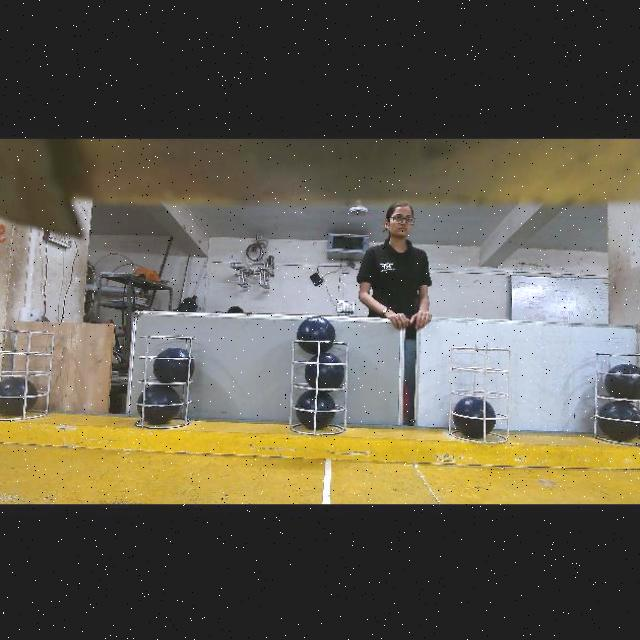P: (453, 396, 495, 438), (135, 384, 179, 424), (598, 399, 640, 439), (151, 347, 194, 386), (304, 351, 344, 392), (294, 390, 334, 429), (295, 315, 335, 354), (605, 363, 640, 402), (0, 378, 34, 415)
S: (123, 333, 201, 432), (448, 344, 524, 444), (285, 340, 355, 434), (0, 323, 62, 421), (594, 351, 640, 452)
